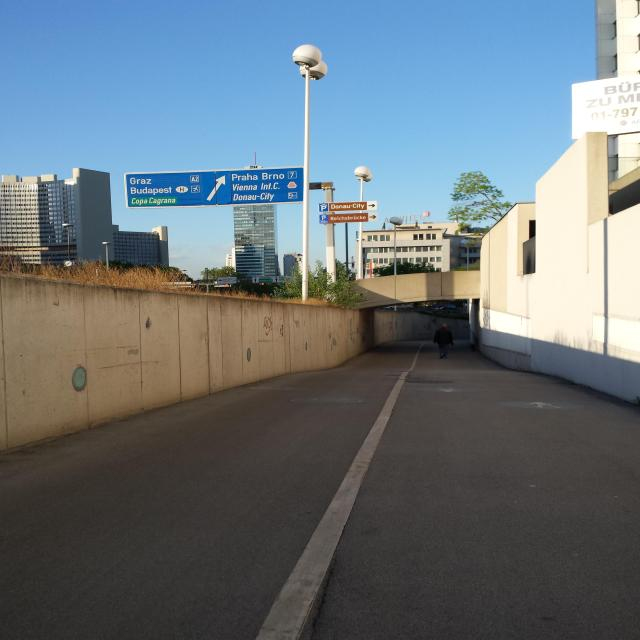Good: (496, 396, 586, 414), (285, 392, 369, 408), (405, 384, 489, 397), (241, 382, 299, 394), (402, 376, 455, 385)
